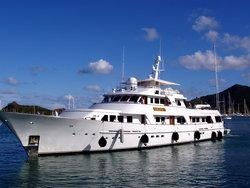yacht: (1, 47, 233, 155)
